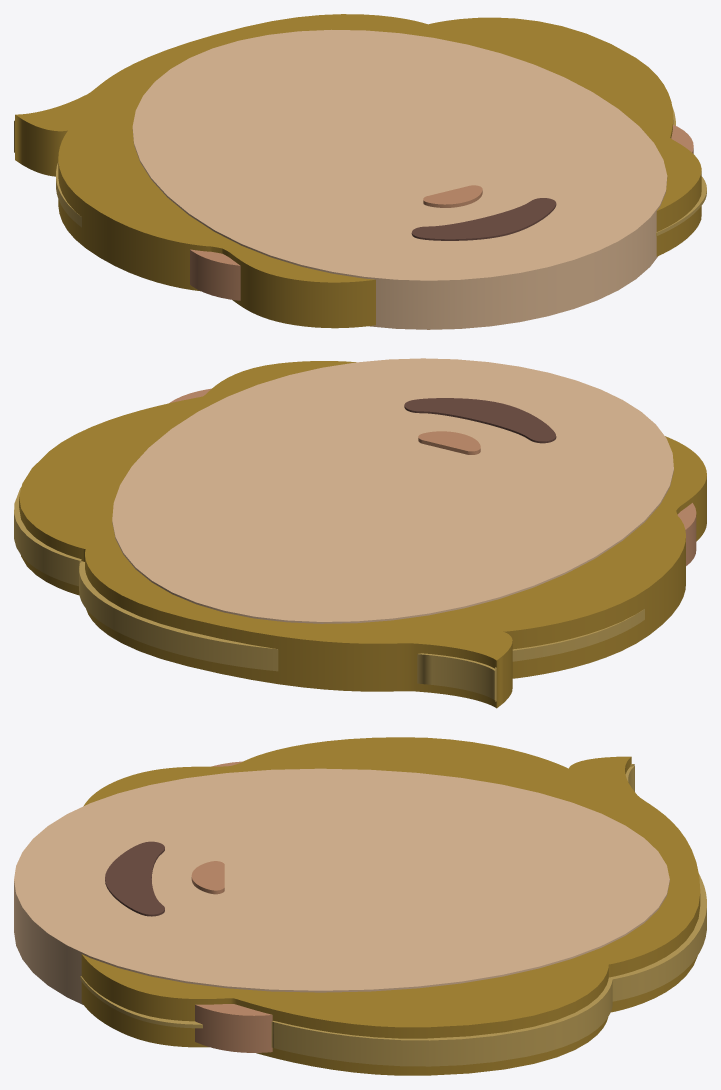
The model's file is emoji_u1f9d2_1f3fc.glb.
The picture shows the model from 3 angles, top to bottom: view 1: azimuth 30°, elevation 25°; view 2: azimuth 150°, elevation 25°; view 3: azimuth 270°, elevation 25°; orthographic projection. The views are drawn at different scales.
Visible parts, largest first — view 1: emoji_u1f9d2_1f3fc; view 2: emoji_u1f9d2_1f3fc; view 3: emoji_u1f9d2_1f3fc.
Boxes of the visible parts, <box> form: emoji_u1f9d2_1f3fc: <box>14,14,706,329</box>; emoji_u1f9d2_1f3fc: <box>14,358,706,708</box>; emoji_u1f9d2_1f3fc: <box>14,737,706,1075</box>.
Size of the model in its own units: 0.0337 by 0.0032 by 0.0338.
